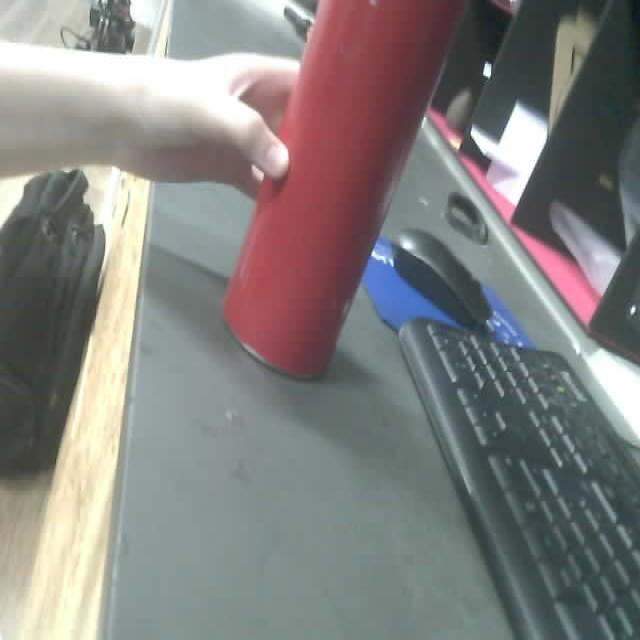water bottle: (223, 0, 468, 381)
